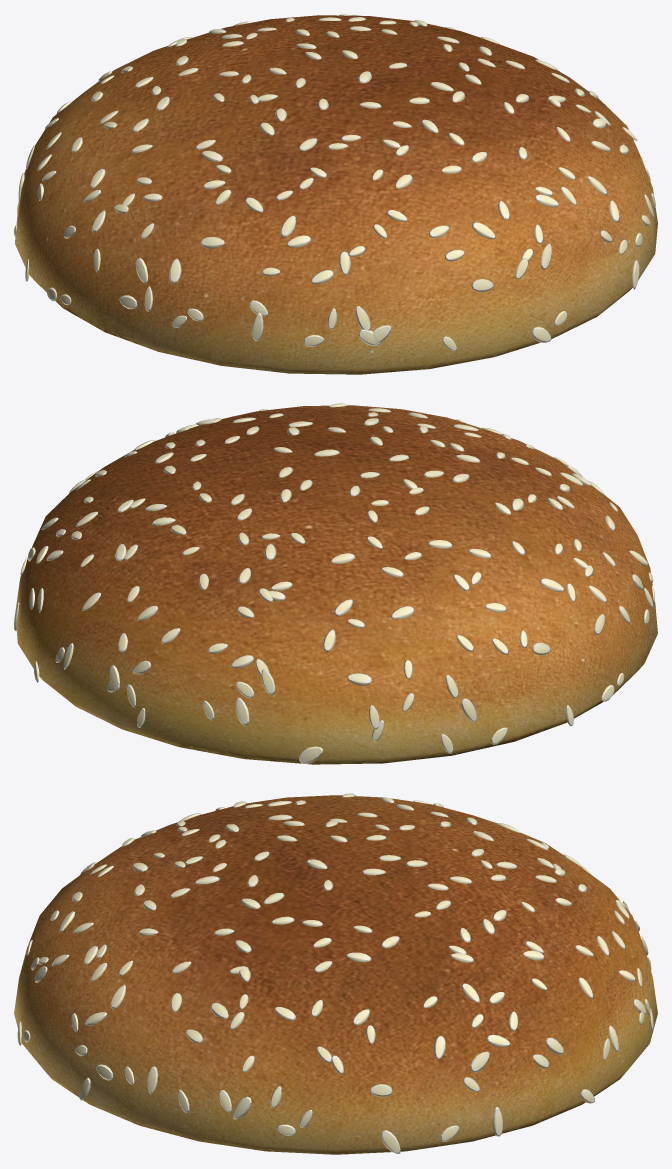
The model's file is bun1.glb.
3 views of the same model, one above another, from view 1: azimuth 30°, elevation 25°; view 2: azimuth 150°, elevation 25°; view 3: azimuth 270°, elevation 25° (orthographic).
Parts seen in each view (by area): view 1: bun1N3; view 2: bun1N3; view 3: bun1N3.
Boxes of the visible parts, x1,y1,x2,y2 form: bun1N3: (14,14,657,374); bun1N3: (14,403,657,764); bun1N3: (14,793,657,1154).
Bounding box in the file's own units: 0.0932 × 0.0272 × 0.0931.
Materials: 2 (2 with a texture image).
